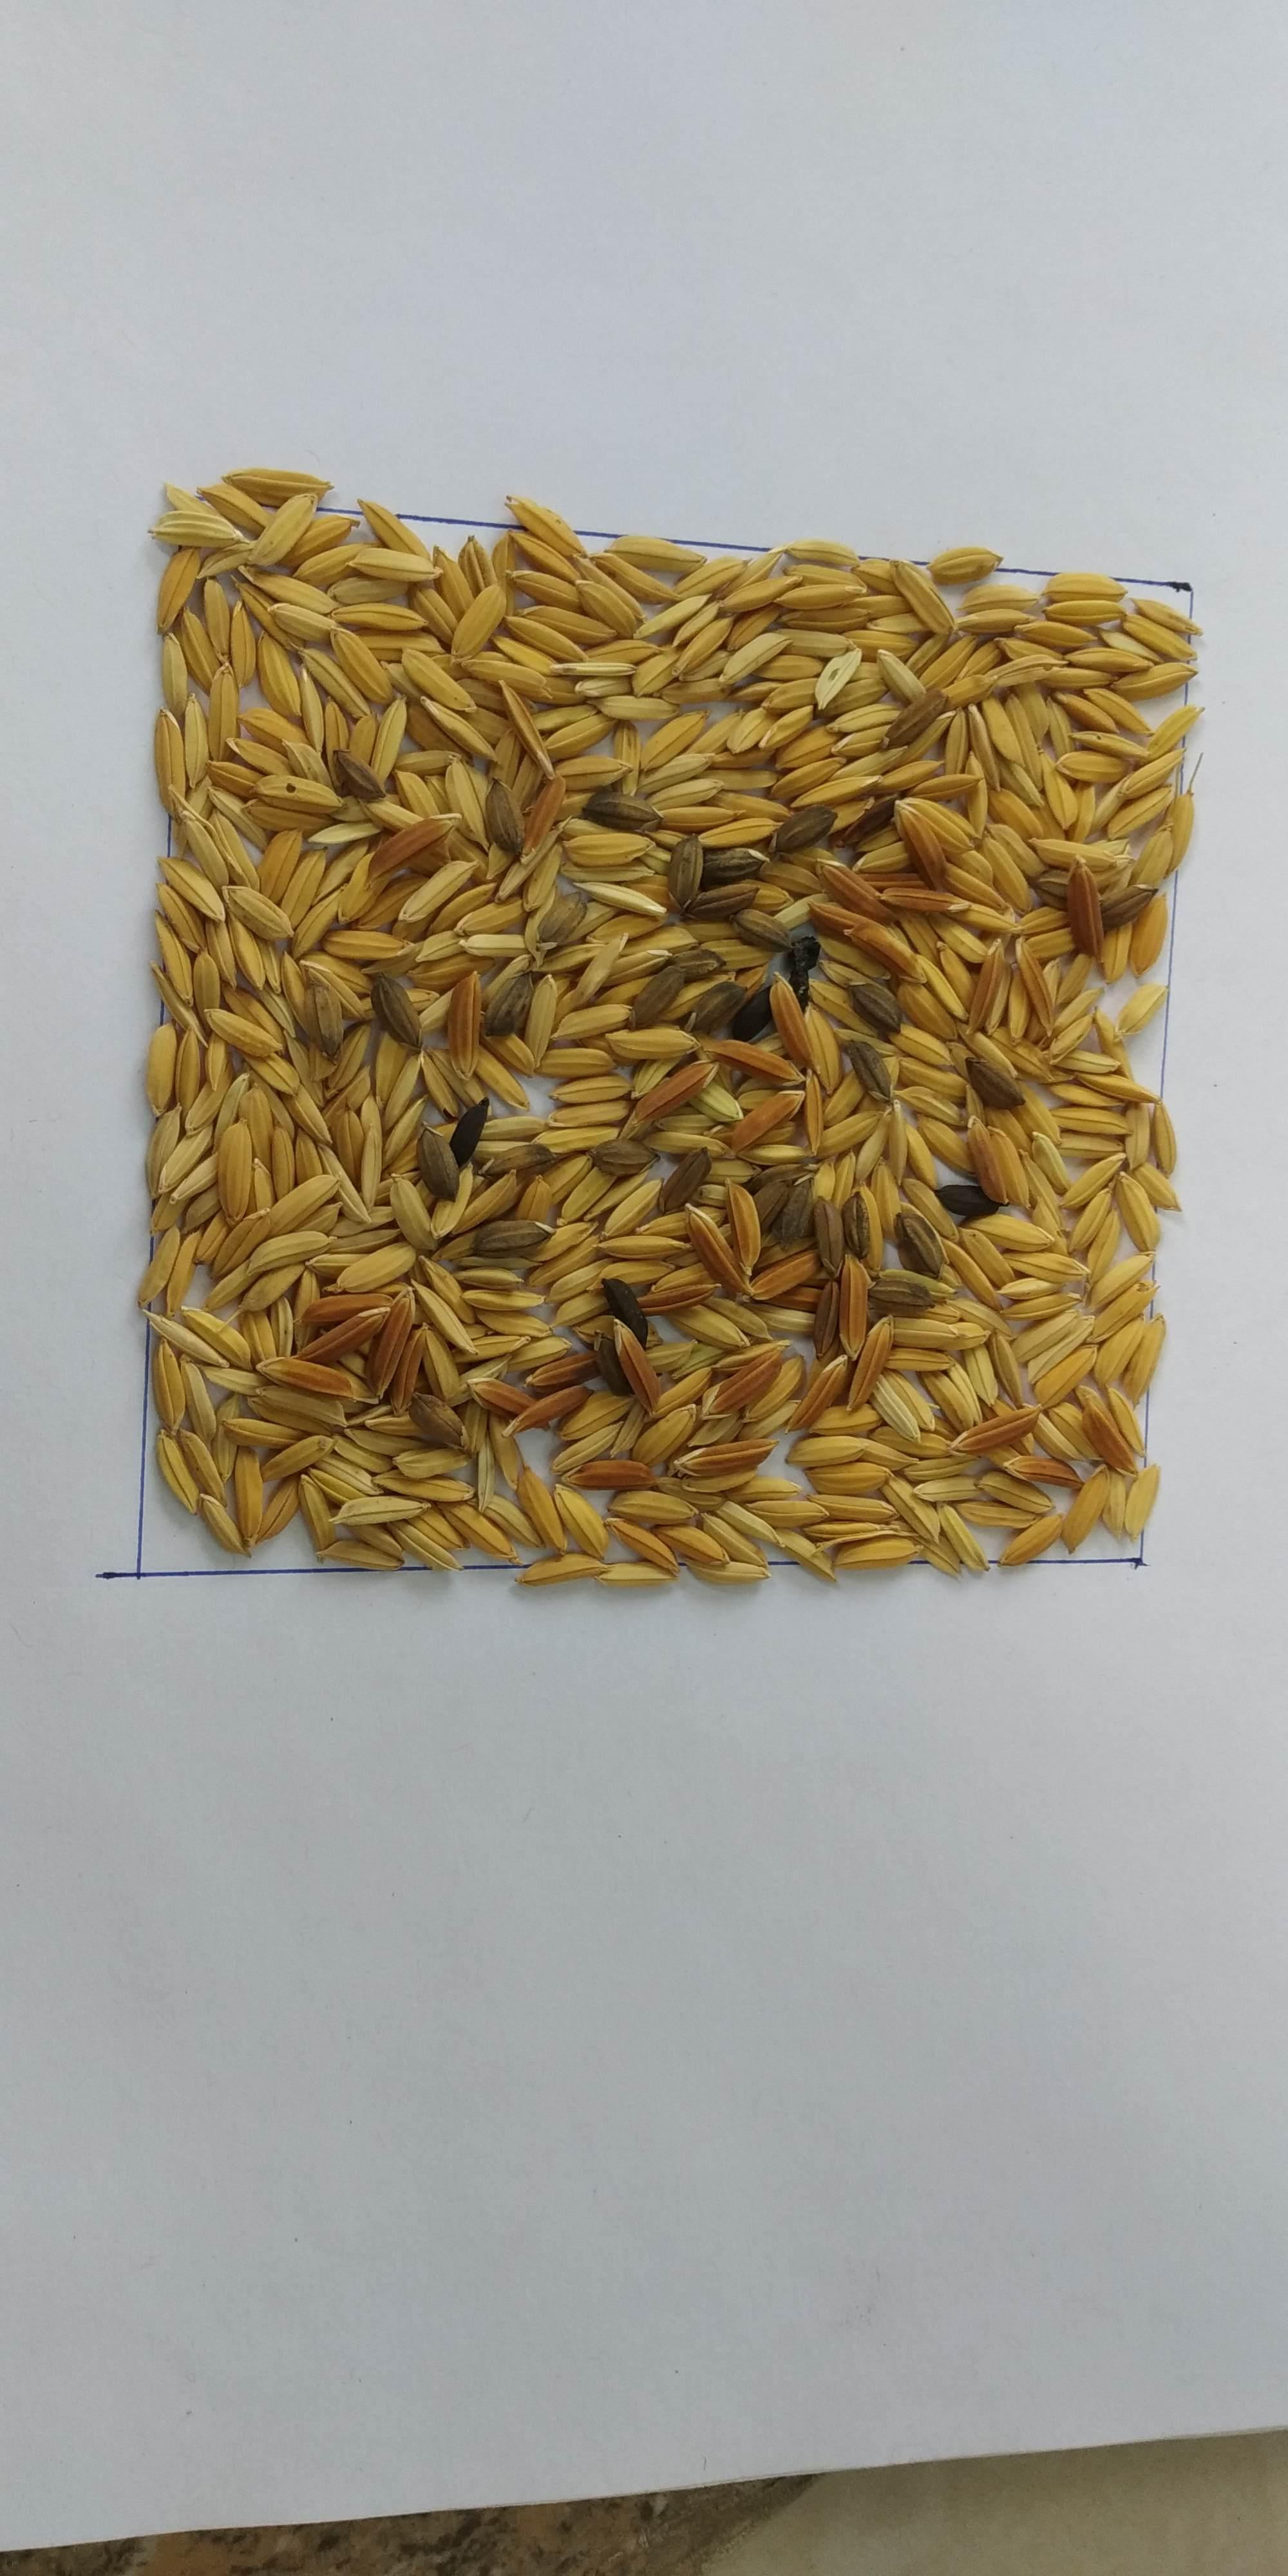impure: (209, 588, 1148, 1528)
